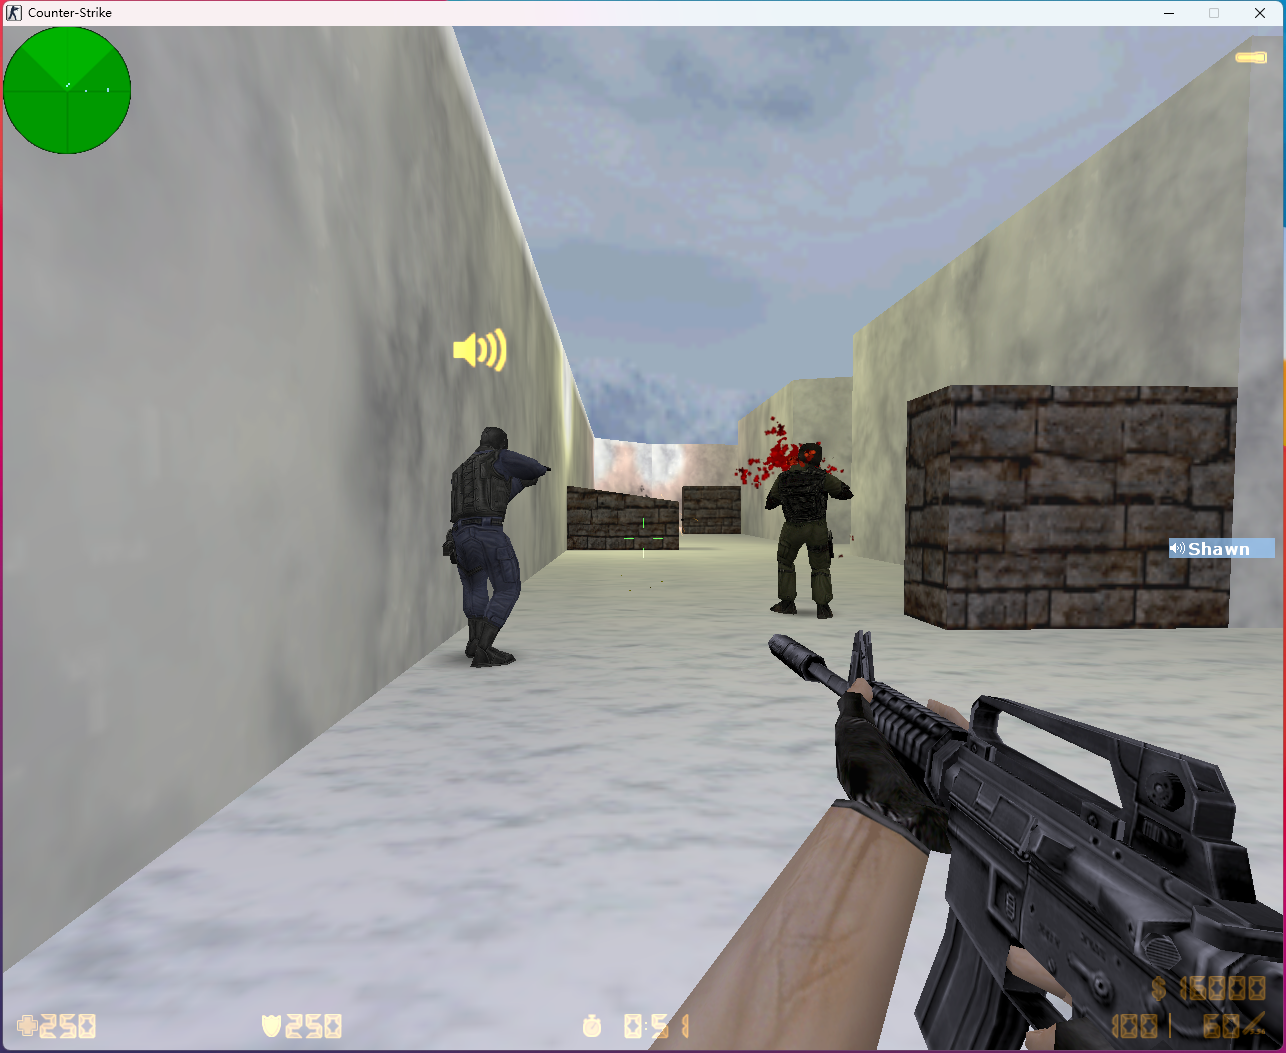C: (442, 427, 542, 669), (765, 439, 848, 620)
